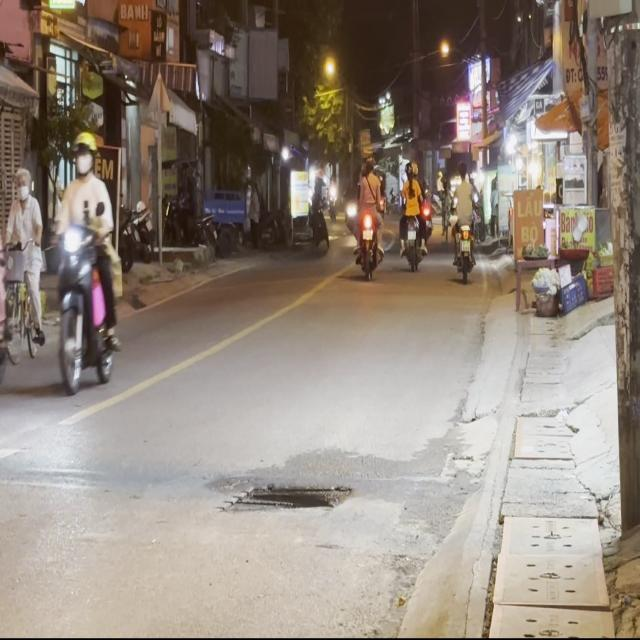helmet: (72, 130, 95, 176)
licenseplate: (51, 128, 121, 394), (0, 156, 13, 400)
